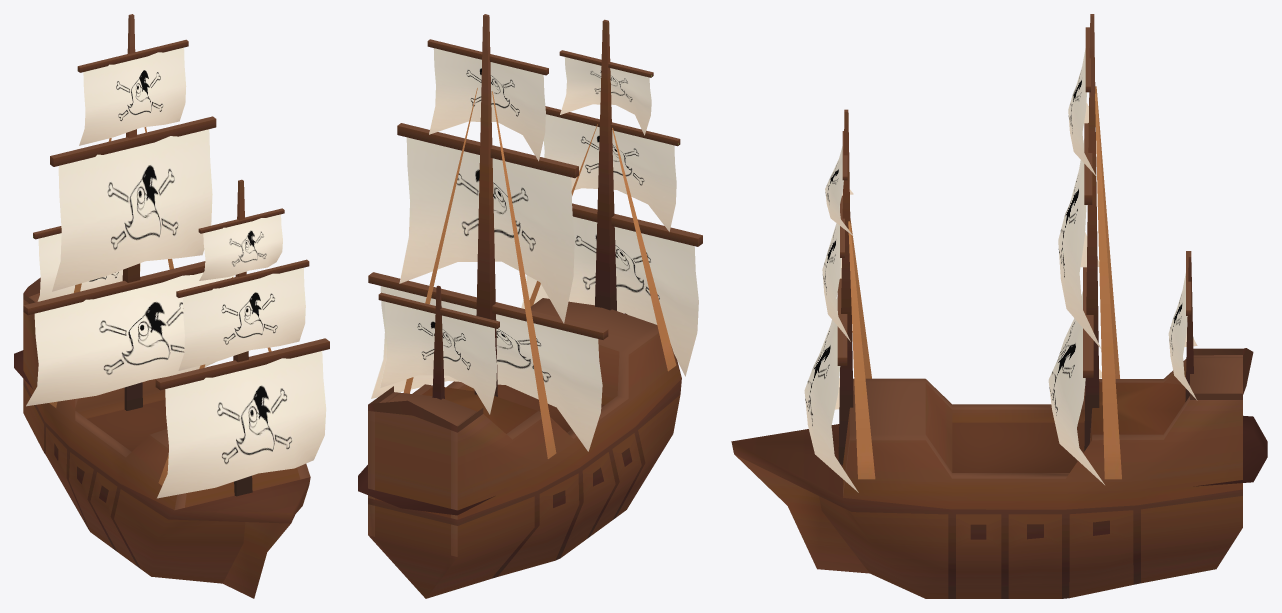
File: boat.glb
3 views of the same model, side by side, from view 1: azimuth 30°, elevation 25°; view 2: azimuth 150°, elevation 25°; view 3: azimuth 270°, elevation 25° (orthographic). The views are drawn at different scales.
Visible parts, largest first — view 1: galion, voile.001, voile.004, voile.003, voile.005, voile, voile.006, Cube.033, Cube.027, Cube.031, voile.002, Cube.003 (+4 smaller); view 2: galion, voile.001, voile.003, voile.004, voile.002, voile.005, voile, Cube.002, Cube.003, voile.006, Cube.031, Cube.027 (+6 smaller); view 3: galion, voile.003, voile.004, Cube.003, voile.001, Cube.002, voile, voile.005, voile.002, voile.006, Cube.031.
Part boxes in pixels (left/top/right/bottom): galion: left=14, top=127, right=310, bottom=598; voile.001: left=52, top=129, right=212, bottom=291; voile.004: left=157, top=351, right=326, bottom=498; voile.003: left=26, top=272, right=234, bottom=406; voile.005: left=178, top=267, right=305, bottom=370; voile: left=79, top=47, right=186, bottom=145; voile.006: left=199, top=214, right=282, bottom=280; Cube.033: left=155, top=338, right=329, bottom=390; Cube.027: left=50, top=116, right=216, bottom=166; Cube.031: left=23, top=261, right=205, bottom=315; voile.002: left=37, top=233, right=140, bottom=301; Cube.003: left=122, top=14, right=142, bottom=410; galion: left=358, top=88, right=681, bottom=598; voile.001: left=399, top=137, right=574, bottom=323; voile.003: left=371, top=286, right=602, bottom=451; voile.004: left=521, top=216, right=698, bottom=376; voile.002: left=380, top=301, right=496, bottom=414; voile.005: left=543, top=114, right=676, bottom=231; voile: left=429, top=48, right=545, bottom=161; Cube.002: left=595, top=19, right=616, bottom=310; Cube.003: left=474, top=14, right=497, bottom=396; voile.006: left=560, top=57, right=651, bottom=135; Cube.031: left=368, top=272, right=608, bottom=339; Cube.027: left=397, top=123, right=578, bottom=178; galion: left=731, top=86, right=1267, bottom=598; voile.003: left=1048, top=291, right=1104, bottom=484; voile.004: left=804, top=296, right=858, bottom=492; Cube.003: left=1084, top=14, right=1099, bottom=451; voile.001: left=1058, top=139, right=1100, bottom=348; Cube.002: left=838, top=109, right=853, bottom=464; voile: left=1068, top=48, right=1096, bottom=176; voile.005: left=822, top=205, right=850, bottom=341; voile.002: left=1168, top=273, right=1197, bottom=400; voile.006: left=825, top=146, right=853, bottom=236; Cube.031: left=1083, top=267, right=1093, bottom=377.
Bounding box in the file's own units: 0.7907 × 1.73 × 1.52.
Materials: 2 (2 with a texture image).
